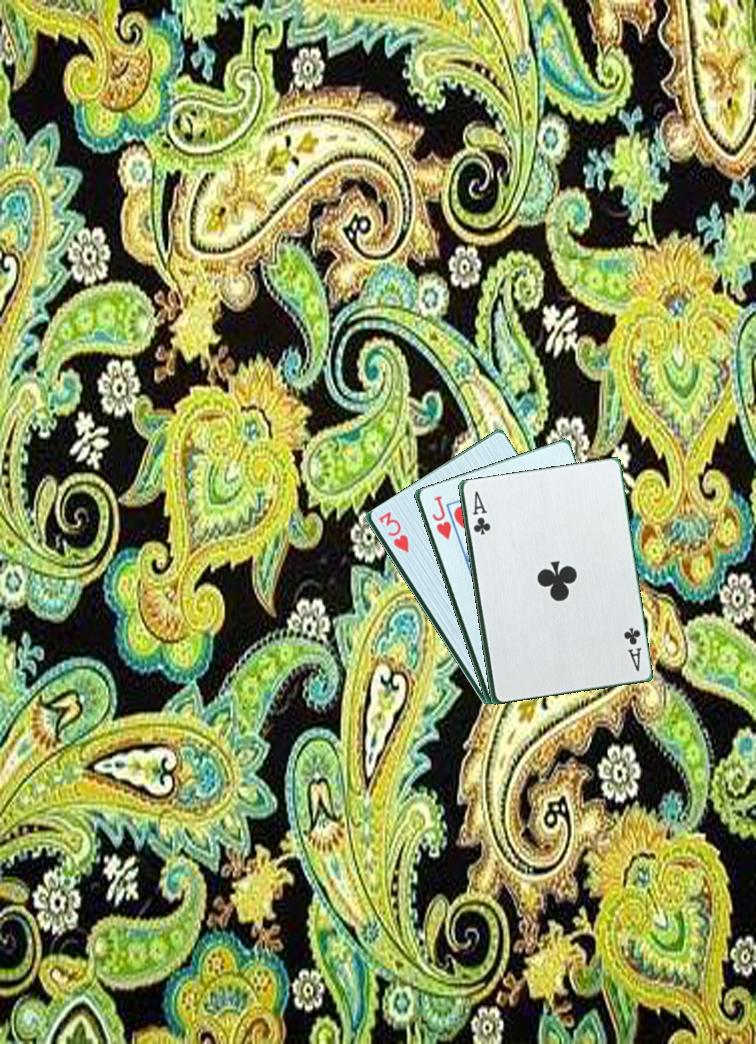3h: (374, 508, 411, 555)
ac: (619, 624, 644, 674), (469, 487, 491, 538)
jh: (428, 492, 454, 542)
